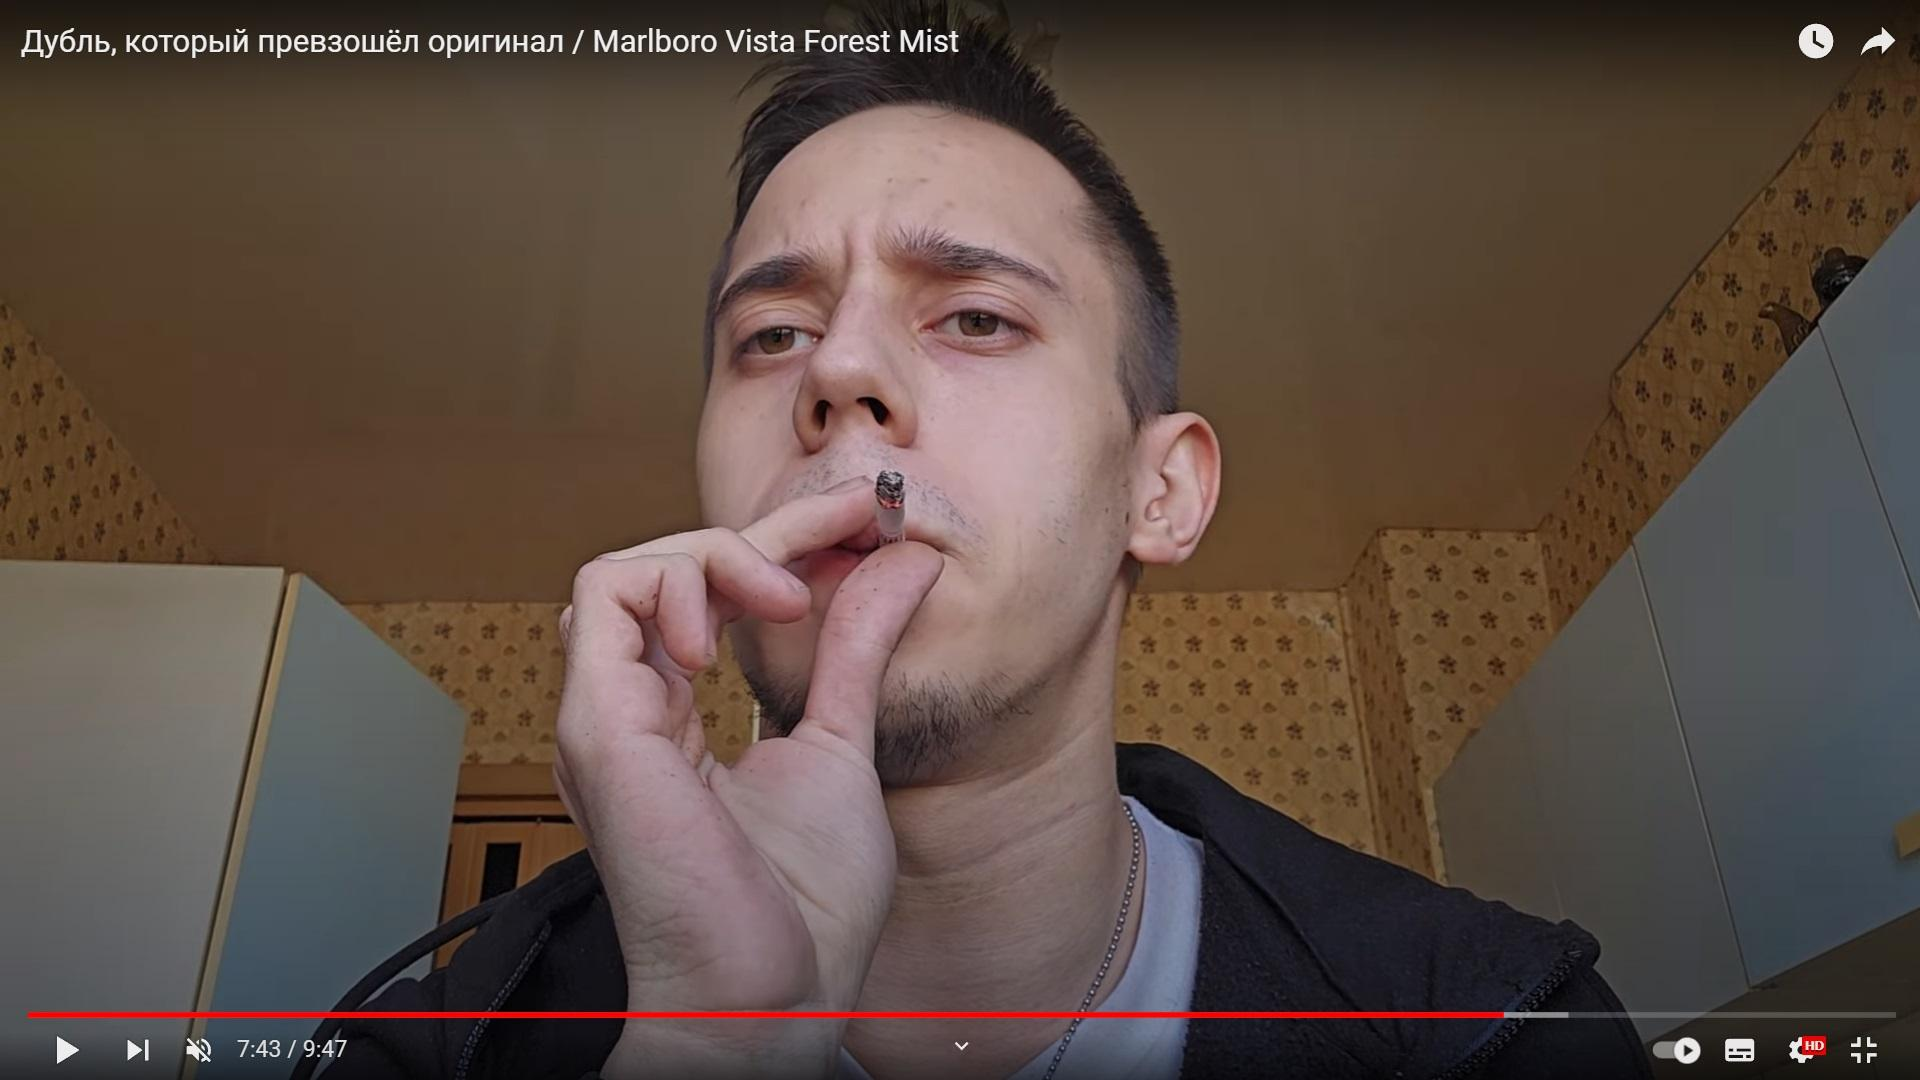cigarette: (874, 468, 903, 543)
